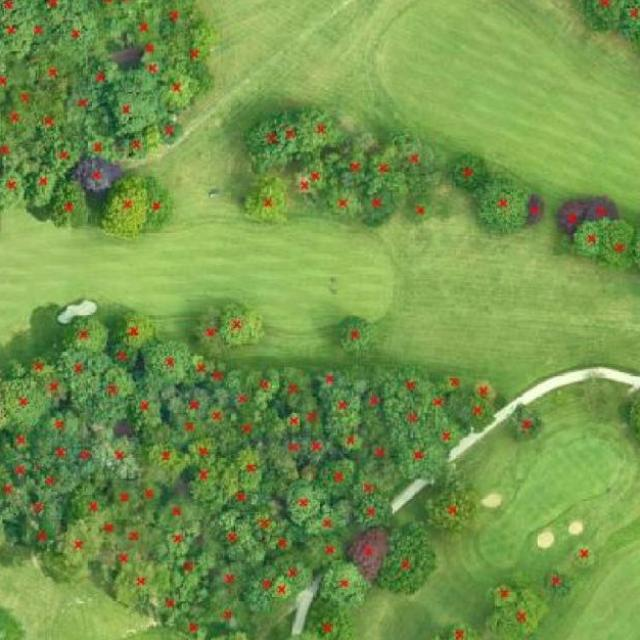tree: (370, 522, 441, 600), (418, 479, 488, 542), (47, 339, 110, 409), (74, 361, 141, 425), (474, 171, 533, 243), (95, 173, 153, 242), (383, 434, 458, 486), (483, 587, 555, 640), (97, 77, 165, 131), (3, 367, 55, 437), (205, 505, 264, 564), (133, 340, 194, 396), (110, 554, 173, 608), (234, 112, 283, 180), (238, 174, 294, 232), (41, 182, 101, 234), (270, 353, 319, 416), (317, 554, 367, 614), (59, 152, 127, 196), (342, 521, 386, 588), (355, 428, 401, 492), (384, 392, 438, 446), (102, 304, 156, 358), (242, 556, 286, 622), (43, 16, 106, 62), (317, 384, 366, 443), (503, 391, 549, 453), (186, 298, 230, 361), (271, 100, 315, 162), (185, 19, 221, 94), (57, 519, 102, 579), (51, 313, 118, 353), (225, 443, 271, 501), (330, 307, 380, 359), (307, 450, 365, 494), (150, 518, 203, 566), (311, 360, 373, 401), (223, 296, 270, 350), (570, 0, 638, 37), (352, 370, 390, 436), (76, 118, 128, 166), (96, 431, 143, 484), (152, 494, 206, 540), (361, 138, 408, 190), (340, 466, 394, 510), (300, 600, 359, 640), (182, 452, 223, 509), (165, 384, 218, 428), (382, 359, 438, 400), (31, 50, 89, 89), (354, 188, 399, 238), (293, 501, 352, 539), (278, 476, 321, 528), (147, 173, 179, 242), (390, 125, 442, 167), (448, 148, 488, 202), (344, 492, 398, 532), (0, 100, 44, 149), (62, 82, 105, 132), (308, 97, 344, 156), (452, 391, 497, 438), (68, 479, 116, 522), (152, 70, 198, 114), (118, 390, 164, 434), (0, 47, 31, 112), (35, 0, 102, 30), (150, 110, 197, 152), (599, 216, 633, 274), (154, 0, 208, 36), (76, 55, 120, 99), (198, 589, 250, 626), (198, 398, 238, 446), (160, 412, 208, 452), (145, 436, 193, 476), (30, 438, 80, 476), (102, 477, 148, 518), (0, 168, 36, 220), (220, 367, 256, 419), (126, 53, 168, 97), (29, 484, 70, 528), (552, 190, 585, 244), (331, 144, 373, 186), (0, 22, 41, 64), (272, 430, 313, 472), (183, 434, 222, 476), (322, 183, 360, 226), (427, 614, 489, 640), (288, 166, 328, 206), (538, 564, 576, 606), (0, 443, 21, 519), (70, 432, 106, 476), (115, 518, 154, 558), (613, 0, 640, 57), (564, 538, 604, 576), (128, 478, 168, 516), (129, 28, 178, 59), (401, 194, 447, 227), (172, 551, 215, 586), (428, 415, 467, 453), (568, 222, 604, 263), (176, 352, 212, 393), (4, 81, 51, 112), (15, 524, 62, 555), (246, 503, 284, 541), (488, 572, 524, 612), (621, 378, 640, 451), (112, 135, 158, 165), (118, 0, 156, 36), (0, 132, 34, 172), (23, 12, 54, 55), (0, 358, 16, 438), (0, 0, 41, 31), (250, 371, 281, 412), (281, 561, 317, 596), (34, 370, 72, 403), (96, 0, 125, 42), (30, 0, 96, 18), (230, 413, 265, 446), (424, 387, 460, 419), (587, 189, 618, 224), (472, 369, 502, 405), (519, 192, 544, 233), (331, 428, 366, 457), (265, 574, 294, 608), (433, 370, 472, 395), (178, 611, 210, 640), (156, 590, 189, 618), (303, 160, 334, 187), (22, 348, 51, 376), (629, 215, 640, 288), (283, 410, 302, 440), (0, 478, 16, 508), (0, 202, 7, 250), (612, 66, 616, 66)
